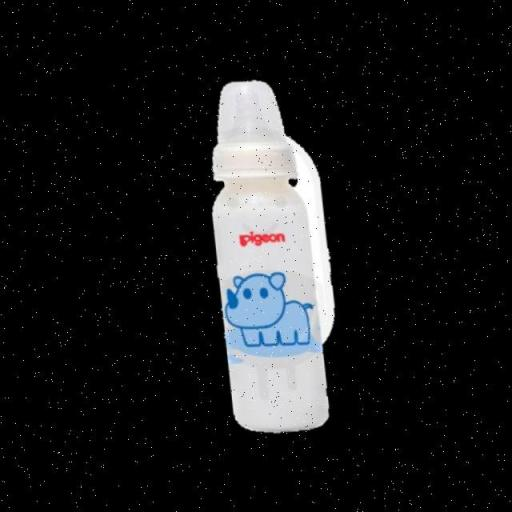plastic: (200, 69, 330, 433)
